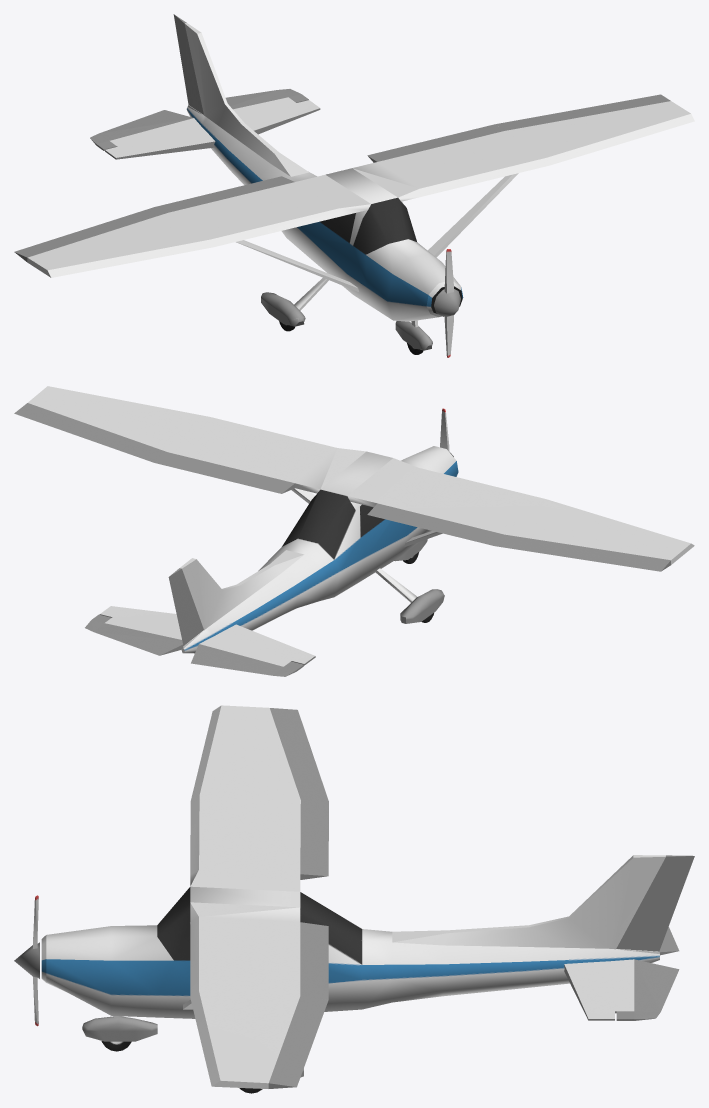
File: PlaneNorm.obj
3 views of the same model, one above another, from view 1: azimuth 30°, elevation 25°; view 2: azimuth 150°, elevation 25°; view 3: azimuth 270°, elevation 25° (orthographic). The views are drawn at different scales.
Visible parts, largest first — view 1: Stabilizer_Mesh.005; view 2: Stabilizer_Mesh.005; view 3: Stabilizer_Mesh.005.
Part boxes in pixels (x1,y1,x2,y2): Stabilizer_Mesh.005: [14, 14, 694, 357]; Stabilizer_Mesh.005: [14, 386, 694, 676]; Stabilizer_Mesh.005: [14, 705, 694, 1093].
Size of the model in its own units: 11.02 by 2.65 by 8.4.
1 material, 1 textured.
